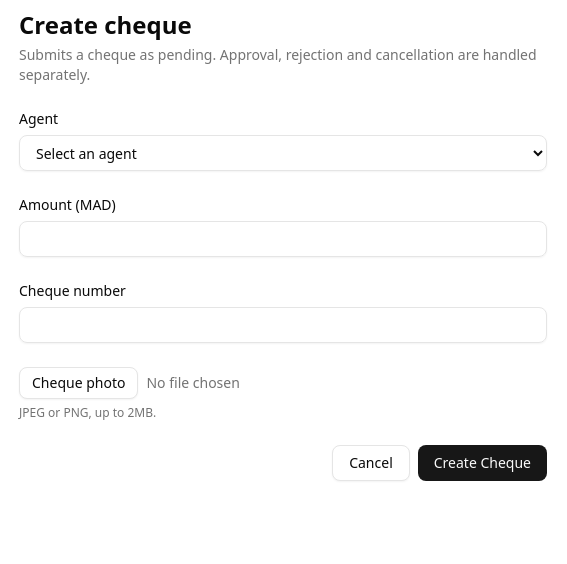
Test: validation › shows a required error for every field on an empty submit
Click the button "Create Cheque" at (482, 463), box [418,445,547,481]
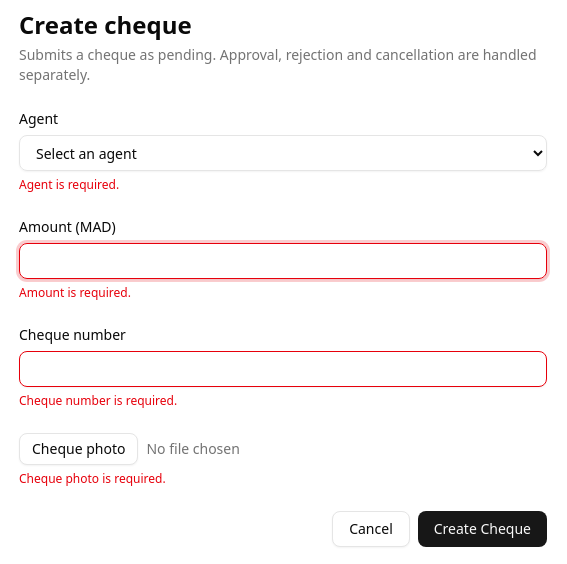
Expected: the text "Agent is required." is shown, [19,176,119,193]
Expected: the text "Amount is required." is shown, [19,284,131,301]
Expected: the text "Cheque number is required." is shown, [19,392,177,409]
